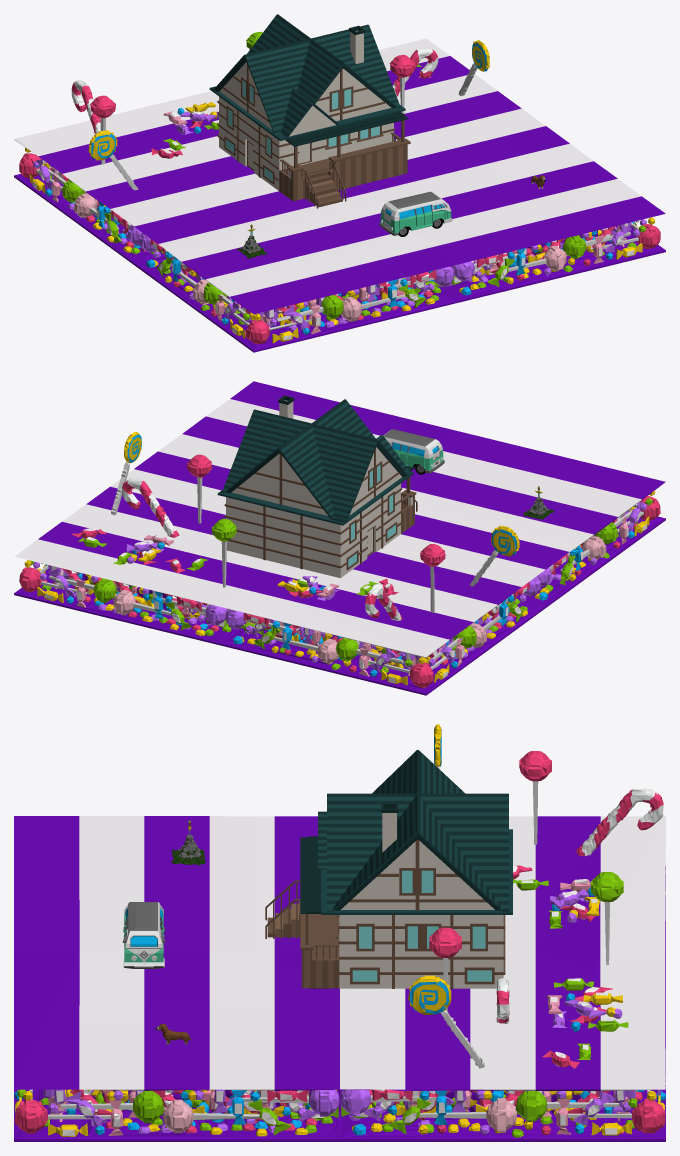
The picture shows the model from 3 angles, top to bottom: view 1: azimuth 30°, elevation 25°; view 2: azimuth 150°, elevation 25°; view 3: azimuth 270°, elevation 25°; orthographic projection. The views are drawn at different scales.
Parts seen in each view (by area): view 1: TERRAIN_CANDY, Cube.793, VEHICLES_VAN; view 2: TERRAIN_CANDY, Cube.793, VEHICLES_VAN; view 3: TERRAIN_CANDY, Cube.793, VEHICLES_VAN, OBJRANDOM_SWORD_IN_THE_STONE.
Part boxes in pixels (bbox=[...]): TERRAIN_CANDY: bbox=[14, 31, 665, 352]; Cube.793: bbox=[209, 14, 410, 208]; VEHICLES_VAN: bbox=[379, 191, 452, 236]; TERRAIN_CANDY: bbox=[14, 381, 665, 695]; Cube.793: bbox=[217, 395, 417, 578]; VEHICLES_VAN: bbox=[383, 429, 444, 474]; TERRAIN_CANDY: bbox=[14, 724, 665, 1141]; Cube.793: bbox=[265, 750, 512, 988]; VEHICLES_VAN: bbox=[122, 902, 165, 968]; OBJRANDOM_SWORD_IN_THE_STONE: bbox=[171, 820, 205, 865].
Bounding box in the file's own units: 4059 × 1534 × 4000.
28 materials, 4 textured.
